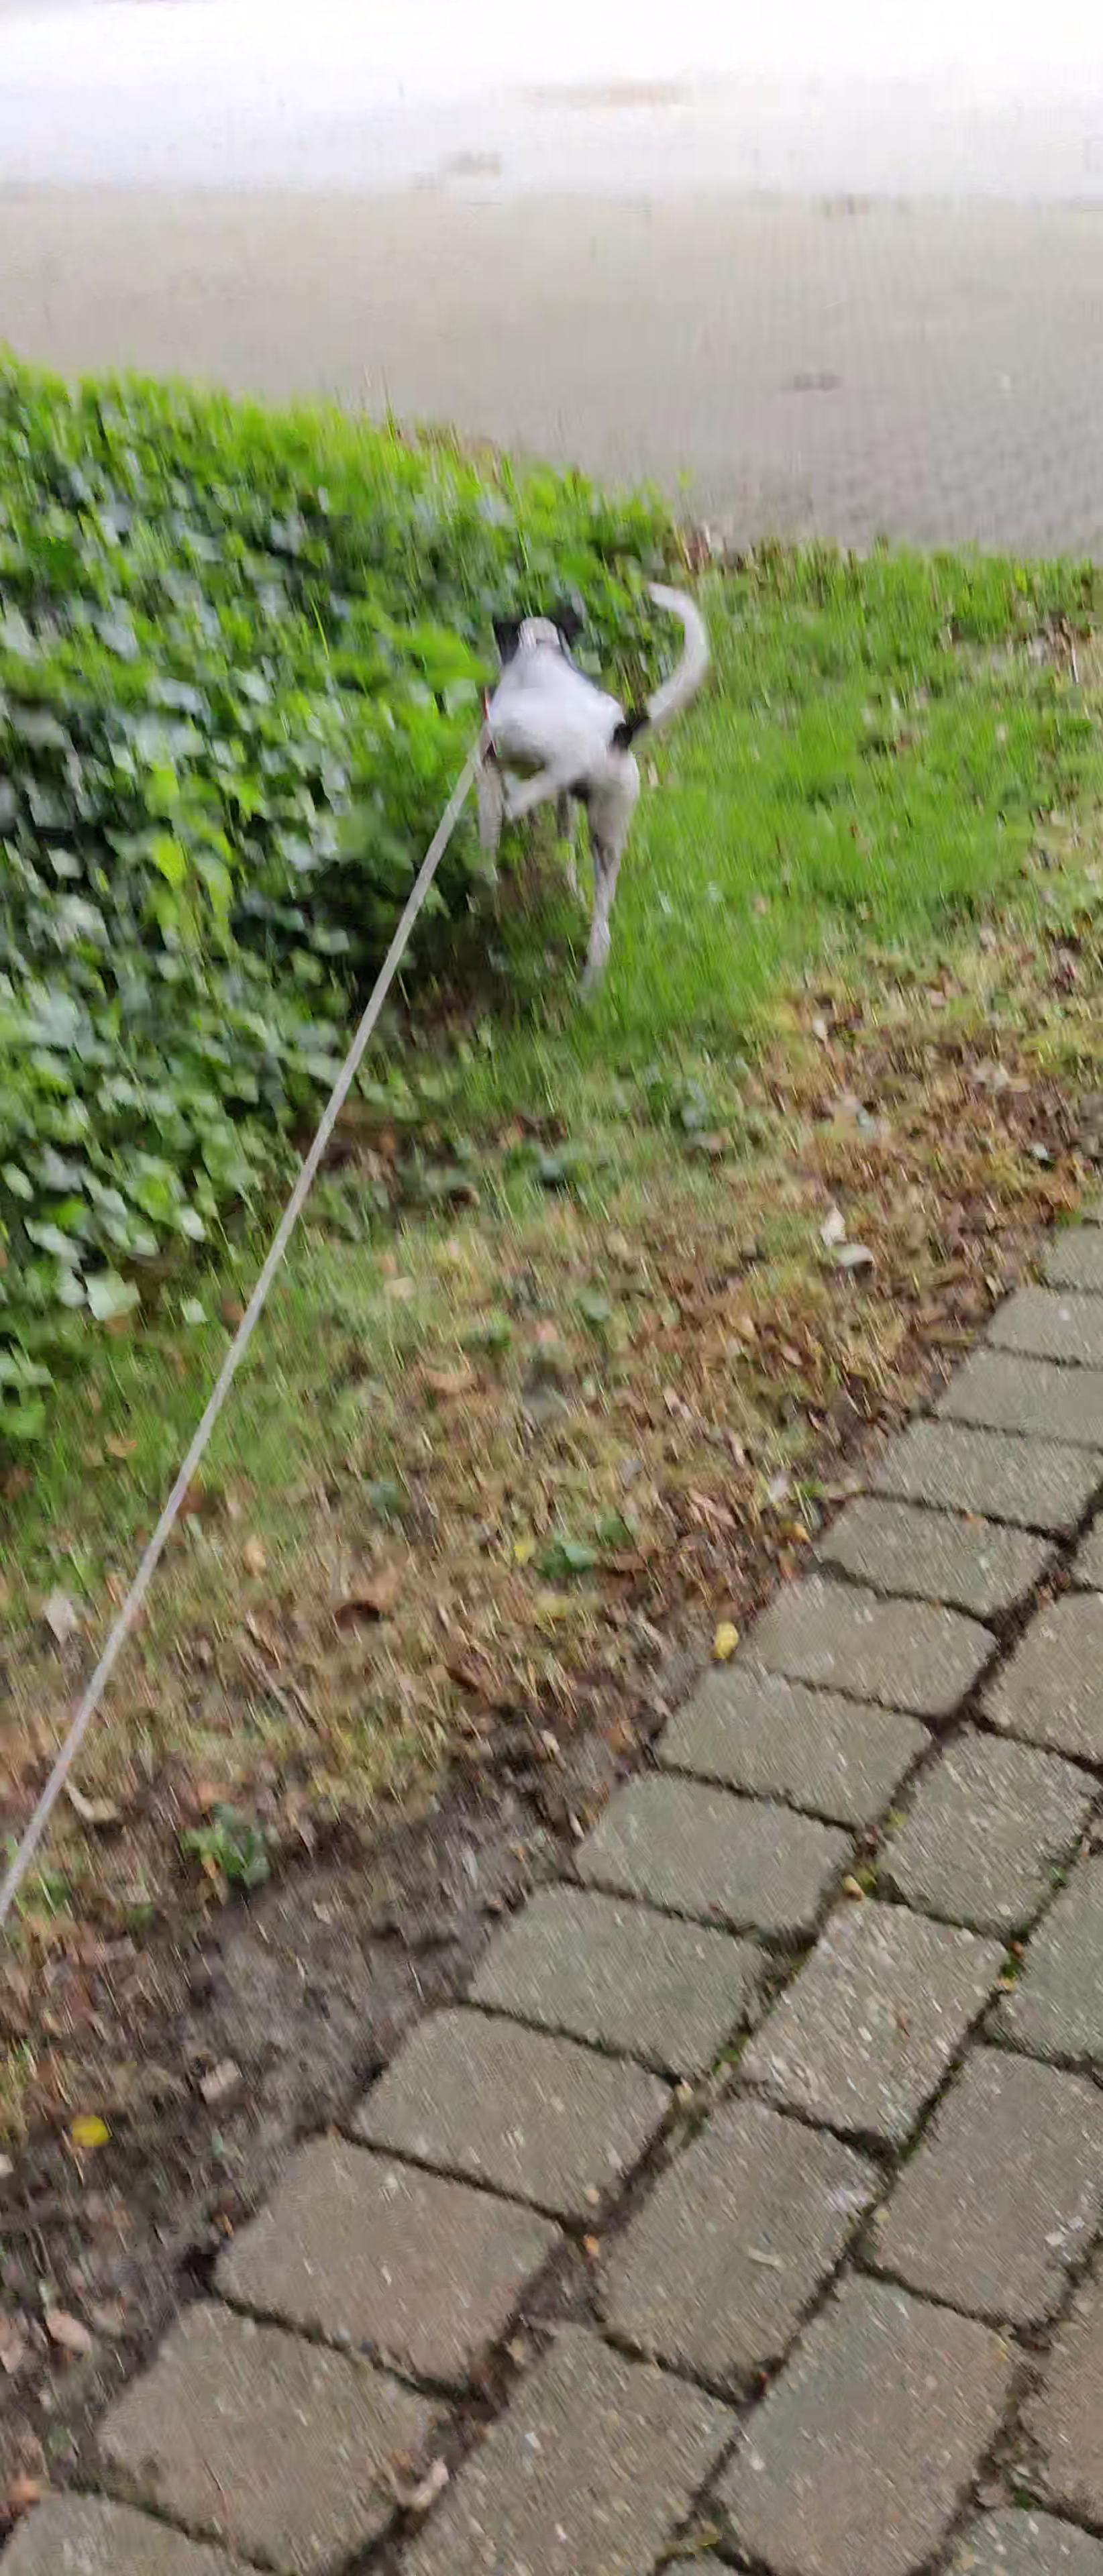Dog: (467, 563, 715, 1000)
